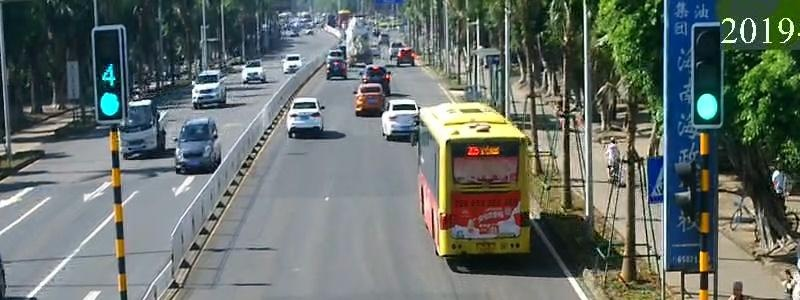green: (687, 84, 727, 123), (86, 90, 131, 122)
greentime: (87, 60, 125, 88)
